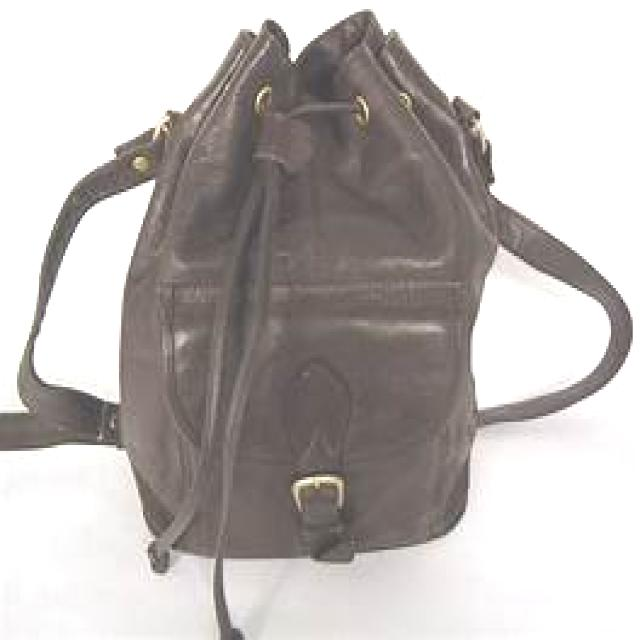backpack: (2, 7, 634, 639)
